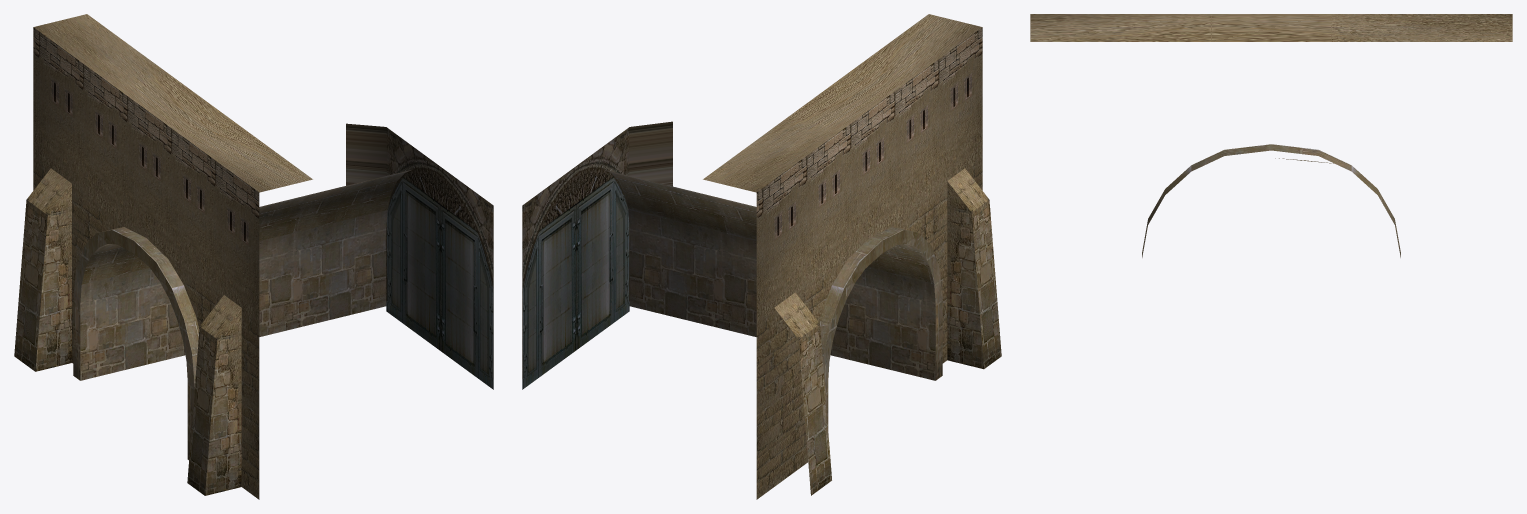
Rendered from M7Z4_FortWall1_D.glb.
The picture shows the model from 3 angles, left to right: view 1: azimuth 30°, elevation 25°; view 2: azimuth 150°, elevation 25°; view 3: azimuth 270°, elevation 25°; orthographic projection. The views are drawn at different scales.
Visible parts, largest first — view 1: M7Z4_FORTWALL1_D; view 2: M7Z4_FORTWALL1_D; view 3: M7Z4_FORTWALL1_D.
Part boxes in pixels (x1,y1,x2,y2): M7Z4_FORTWALL1_D: [14, 14, 493, 499]; M7Z4_FORTWALL1_D: [522, 14, 1001, 499]; M7Z4_FORTWALL1_D: [1030, 14, 1512, 257].
Bounding box in the file's own units: 13.5 × 12.2 × 16.
7 materials, 7 textured.
